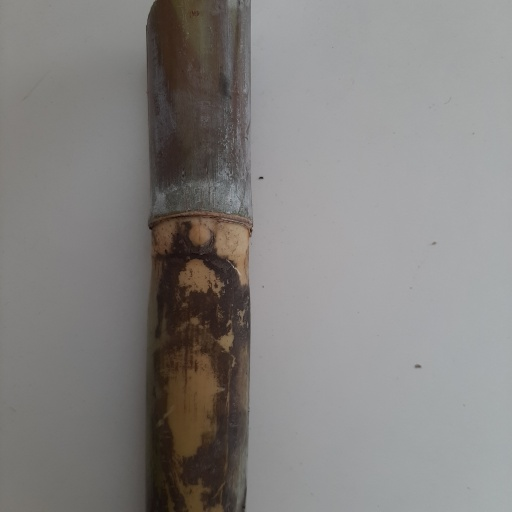Bud: (184, 221, 214, 252)
